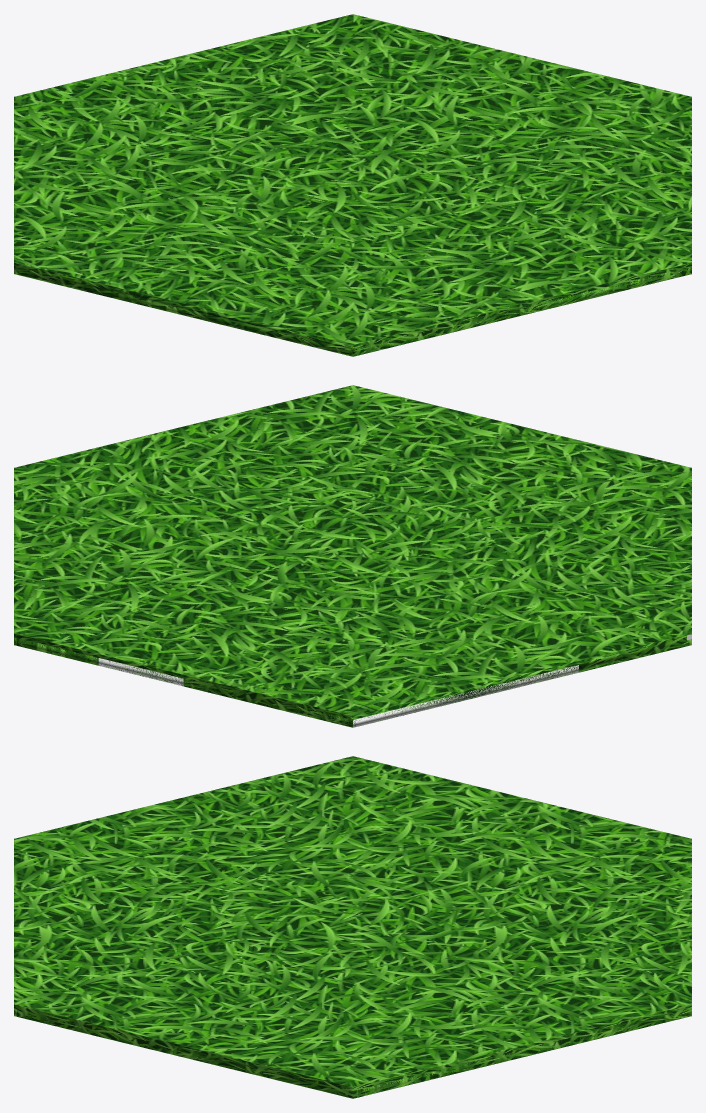
File: grass-hex1.glb
The picture shows the model from 3 angles, top to bottom: view 1: azimuth 30°, elevation 25°; view 2: azimuth 150°, elevation 25°; view 3: azimuth 270°, elevation 25°; orthographic projection.
Parts seen in each view (by area): view 1: hexagonal-ceramic-tile; view 2: hexagonal-ceramic-tile; view 3: hexagonal-ceramic-tile.
Part boxes in pixels (bbox=[...]): hexagonal-ceramic-tile: bbox=[14, 14, 691, 356]; hexagonal-ceramic-tile: bbox=[14, 385, 691, 727]; hexagonal-ceramic-tile: bbox=[14, 756, 691, 1098].
Bounding box in the file's own units: 4.5 × 0.075 × 3.9.
2 materials, 1 textured.
